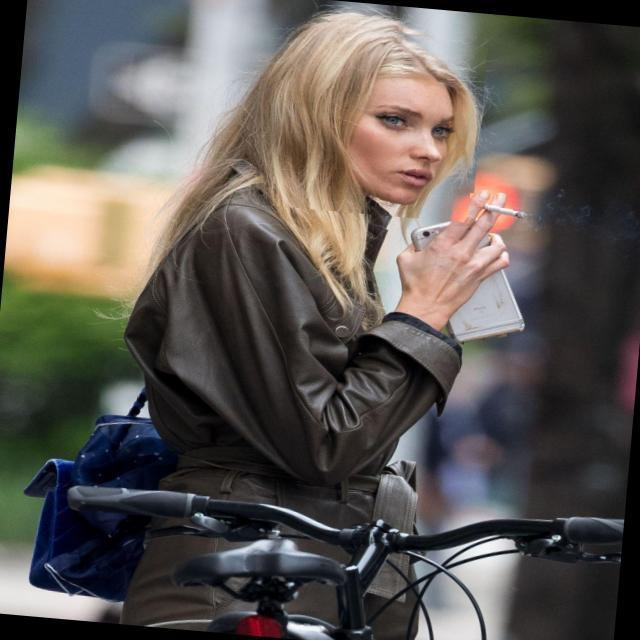cigarette: (466, 192, 546, 232)
